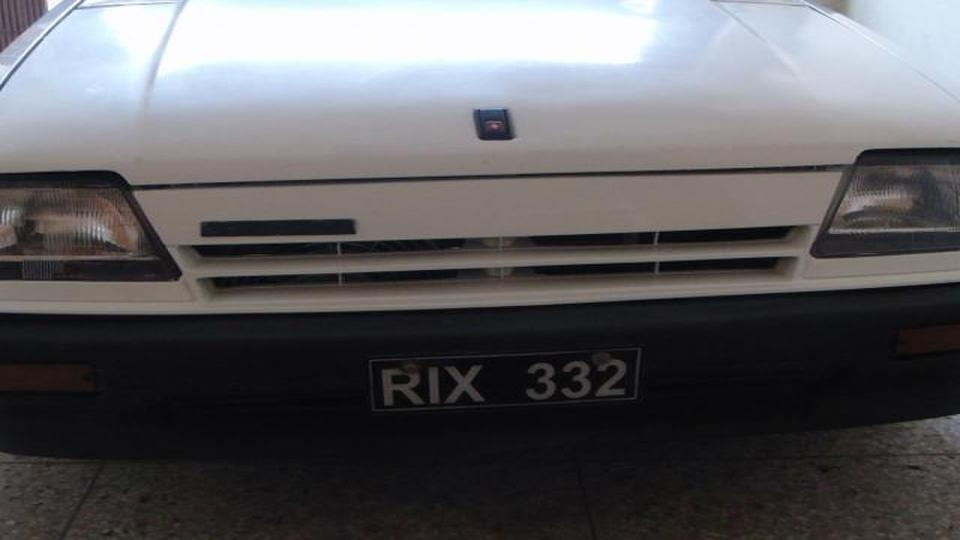NumberPlate: (358, 348, 666, 409)
